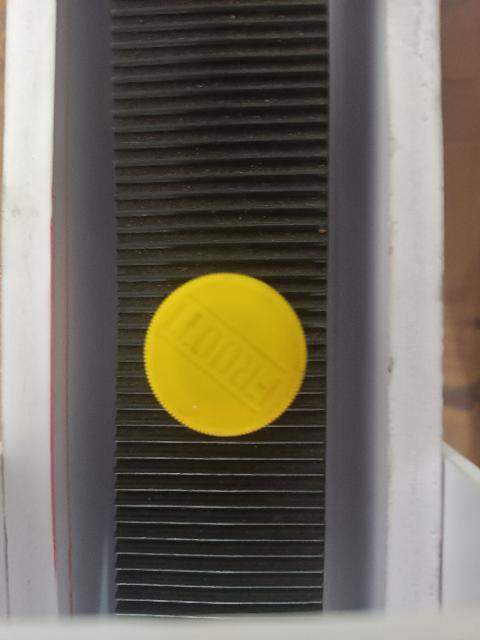bottlecap: (147, 272, 307, 438)
